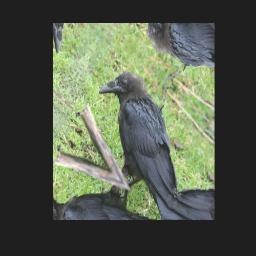Crow: (73, 55, 207, 219)
